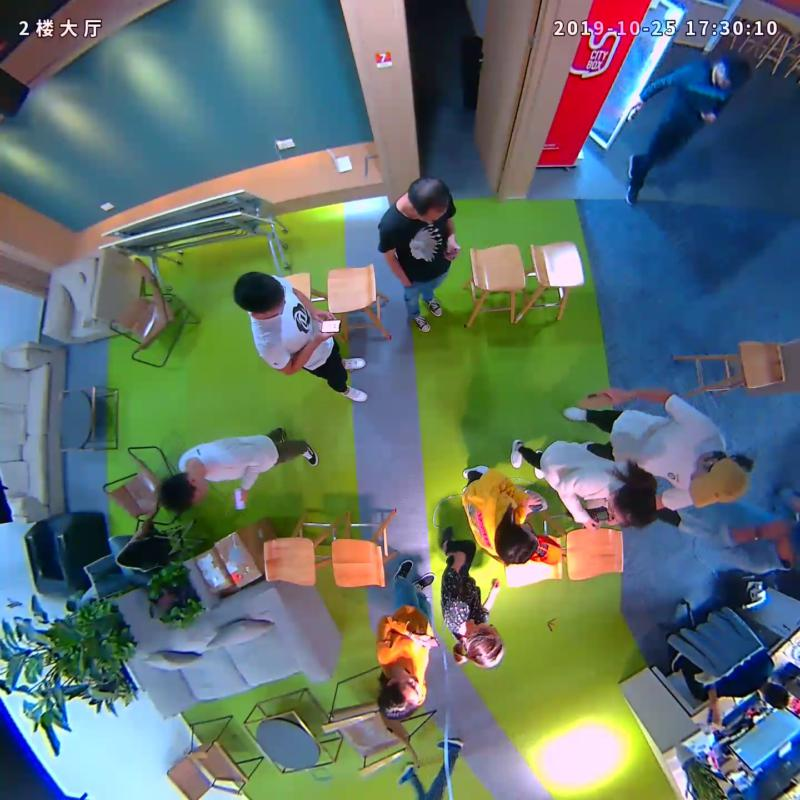head: (688, 452, 752, 510), (606, 482, 657, 530), (233, 271, 286, 317), (377, 672, 422, 722), (407, 175, 451, 223), (159, 472, 210, 513), (494, 523, 538, 565), (463, 622, 504, 667), (711, 55, 751, 89)
